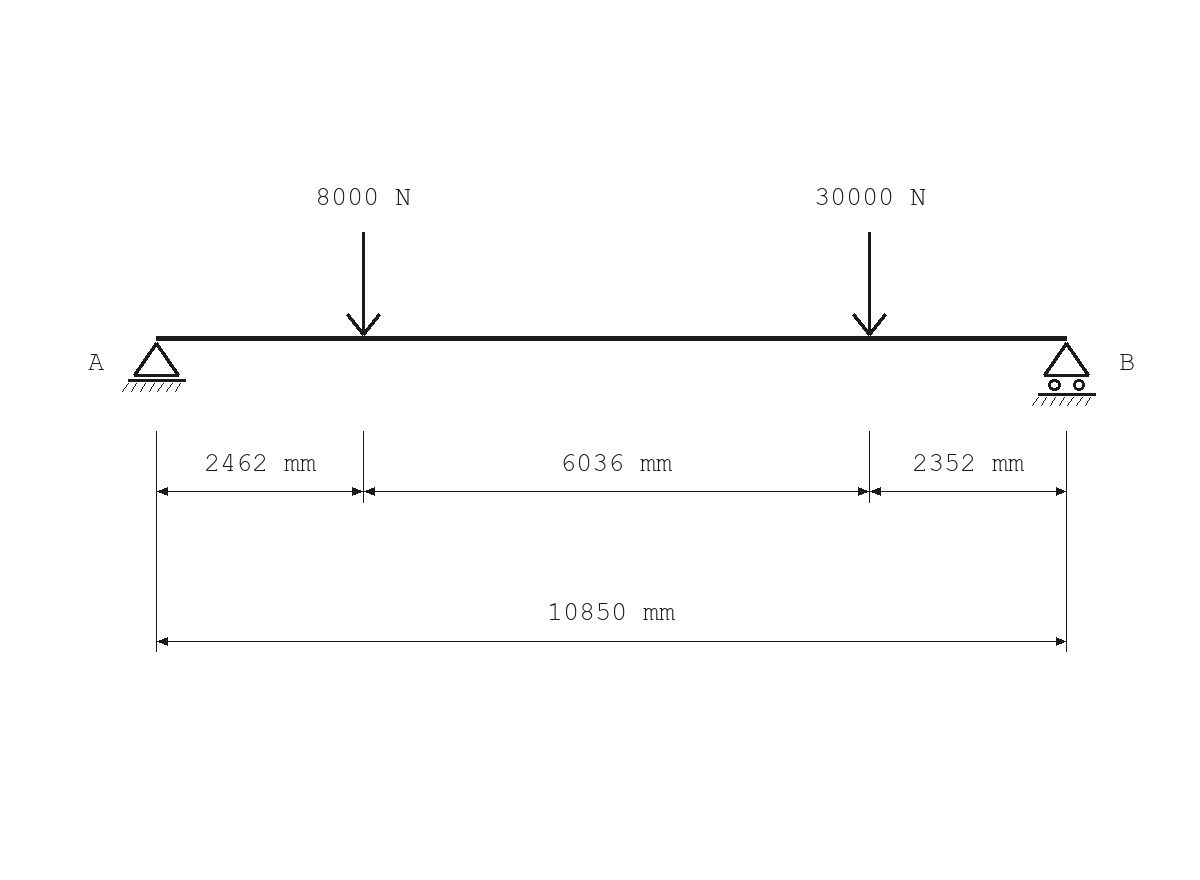pin_support: (122, 342, 186, 392)
point_load: (346, 232, 381, 336), (852, 232, 887, 336)
roller_support: (1032, 342, 1096, 406)
